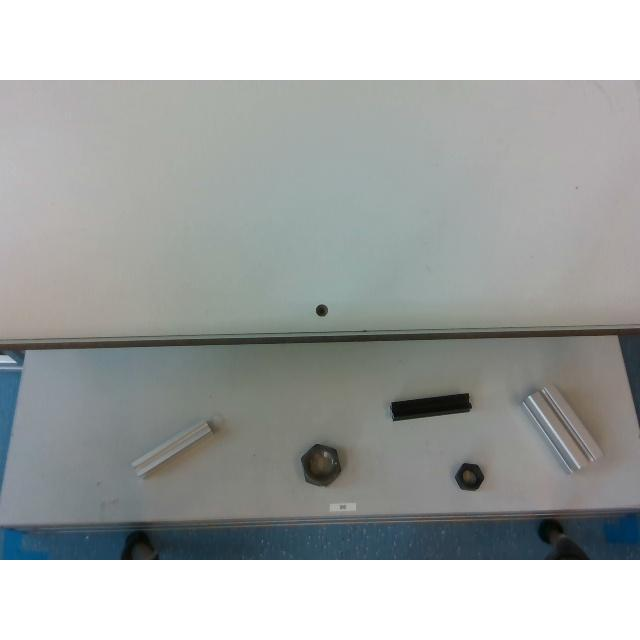F20_20_B: (390, 392, 470, 420)
F20_20_G: (130, 419, 212, 477)
M20: (455, 462, 483, 490)
M30: (300, 444, 340, 486)
S40_40_G: (522, 384, 602, 472)
